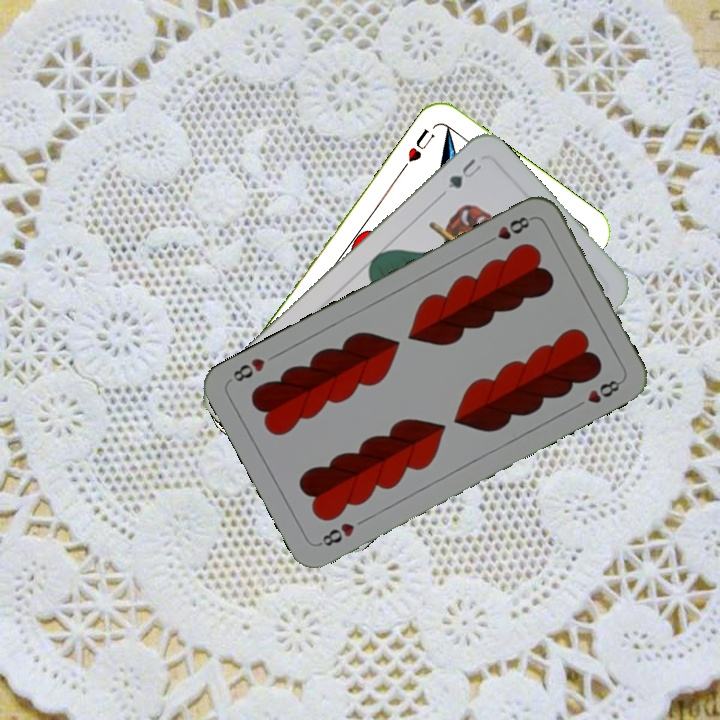GU: (443, 154, 485, 191)
H8: (481, 212, 536, 247), (314, 518, 358, 549)
HU: (403, 125, 437, 165)
